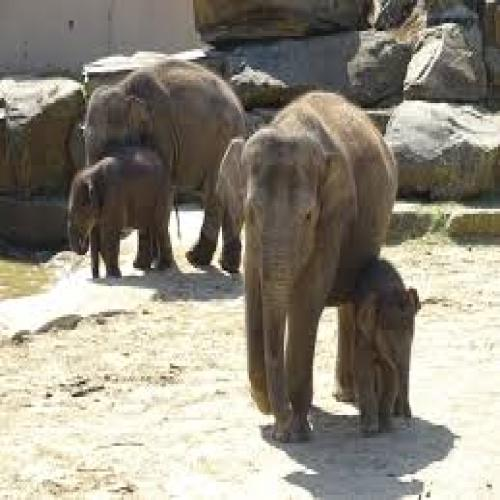asian_elephant-endangered: (214, 93, 396, 440), (82, 58, 237, 274), (65, 143, 178, 273), (349, 263, 416, 435)
